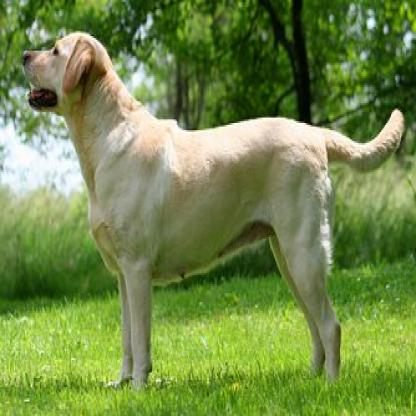dog: (24, 32, 402, 384)
